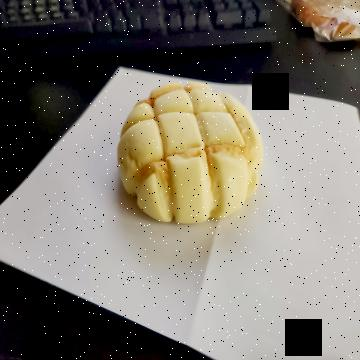melon_bread: (116, 81, 264, 228)
